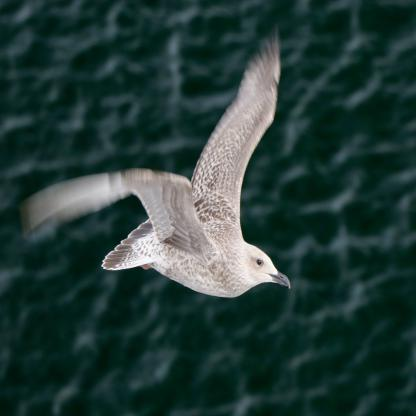bird: (20, 32, 290, 298)
